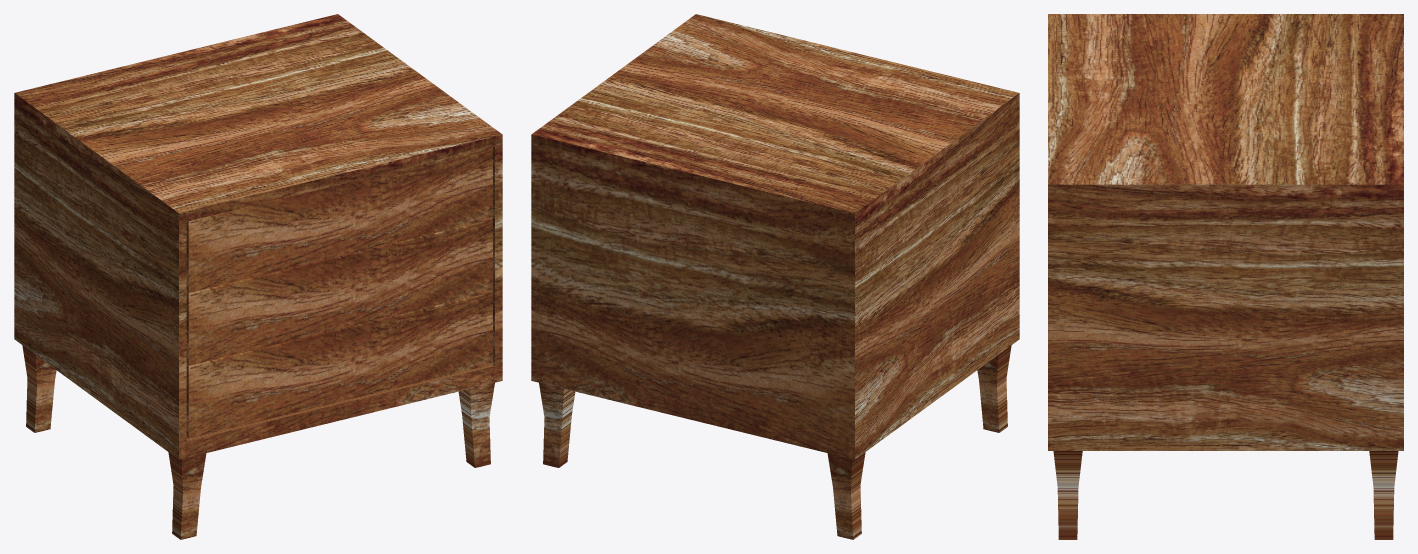
File: Bedroom_nightstand.glb
The picture shows the model from 3 angles, left to right: view 1: azimuth 30°, elevation 25°; view 2: azimuth 150°, elevation 25°; view 3: azimuth 270°, elevation 25°; orthographic projection. The views are drawn at different scales.
Visible parts, largest first — view 1: Cube.028, Cube.029; view 2: Cube.028; view 3: Cube.028.
Boxes of the visible parts, x1,y1,x2,y2 form: Cube.028: (14,14,502,539); Cube.029: (186,147,492,438); Cube.028: (531,14,1019,539); Cube.028: (1048,14,1403,539).
Size of the model in its own units: 1.44 by 1.41 by 1.27.
1 material, 1 textured.
